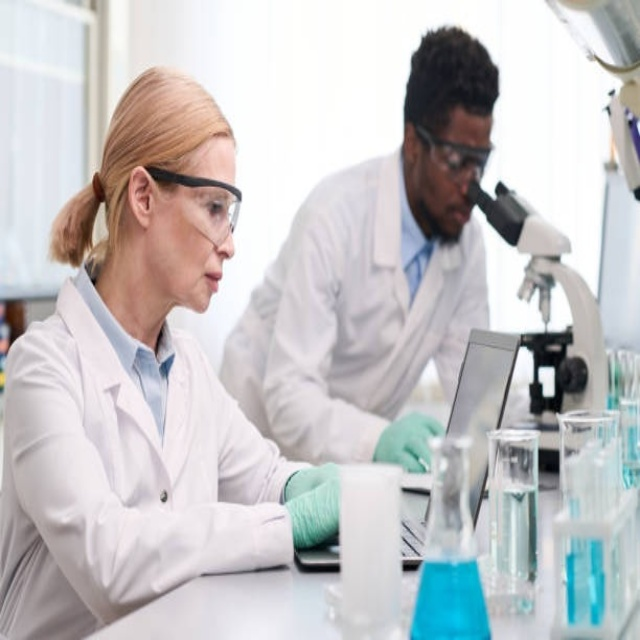Gafas: (144, 166, 242, 242), (416, 122, 495, 184)
Guantes: (282, 463, 342, 548), (373, 411, 447, 472)
Sin_mascara: (188, 257, 231, 312), (434, 196, 477, 243)
